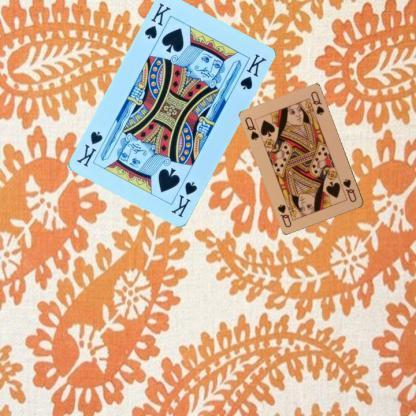Ks: (168, 179, 199, 219), (142, 1, 172, 42)
Qs: (340, 176, 358, 204), (242, 115, 260, 142)
